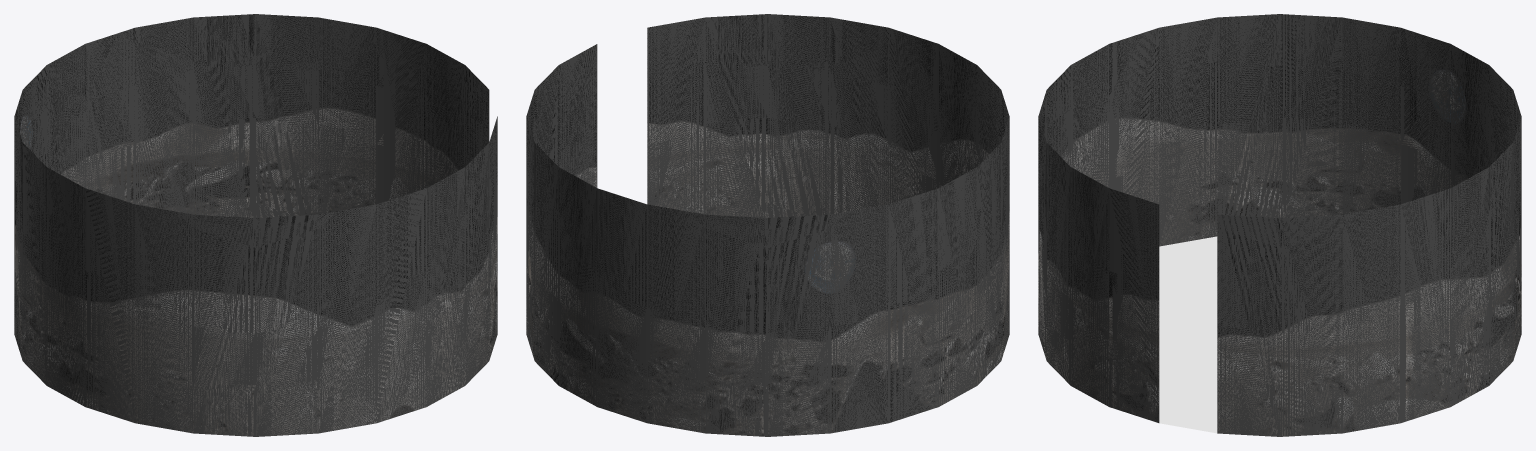
File: Moon Set.dae
3 views of the same model, side by side, from view 1: azimuth 30°, elevation 25°; view 2: azimuth 150°, elevation 25°; view 3: azimuth 270°, elevation 25° (orthographic).
Visible parts, largest first — view 1: SketchUp; view 2: SketchUp; view 3: SketchUp (×2).
Boxes of the visible parts, x1,y1,x2,y2 form: SketchUp: [14, 14, 497, 436]; SketchUp: [526, 14, 1009, 436]; SketchUp (×2): [1038, 14, 1521, 436].
Bounding box in the file's own units: 489 × 489 × 245.
3 materials, 1 textured.
